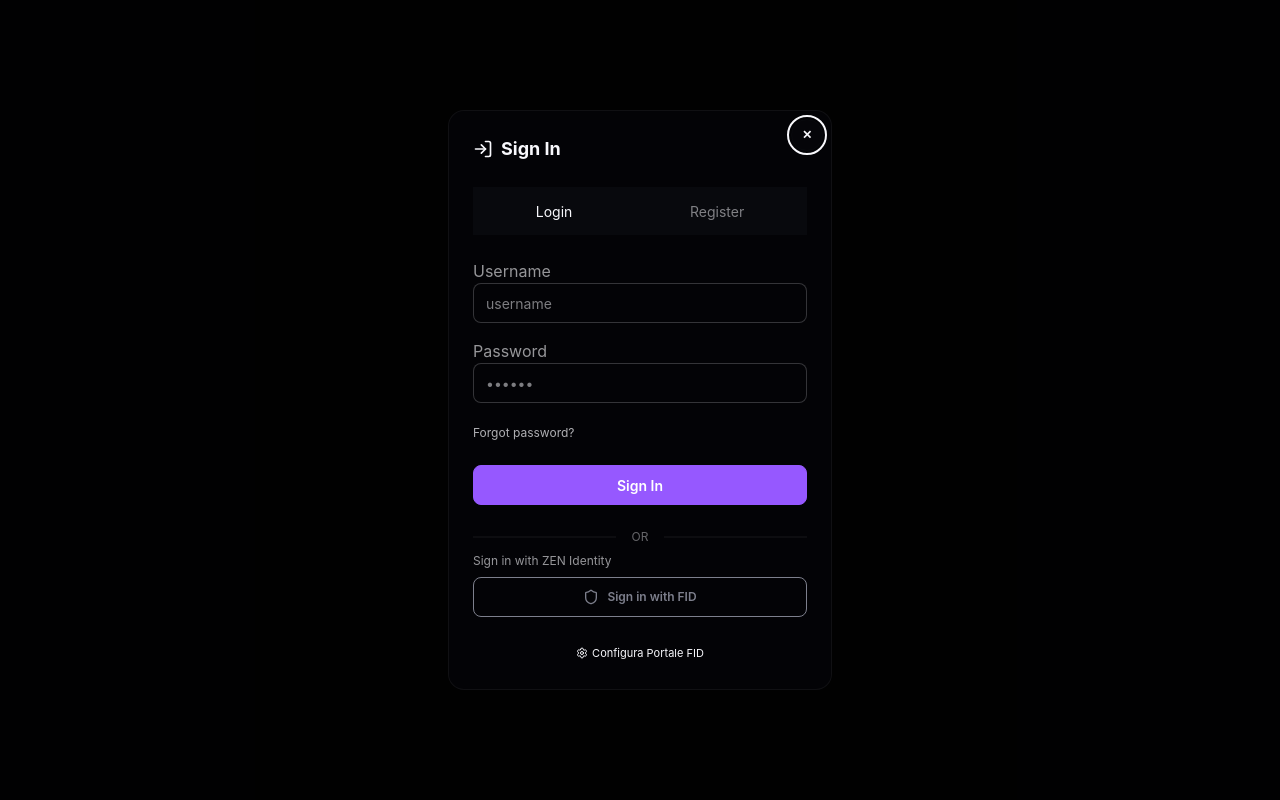
AuthModal › submits forgot password form
The image size is (1280, 800).
Expected: the field labelled "Username" is shown, [473, 283, 807, 323]
Click the button "Forgot password?": (524, 433) [473, 425, 574, 441]
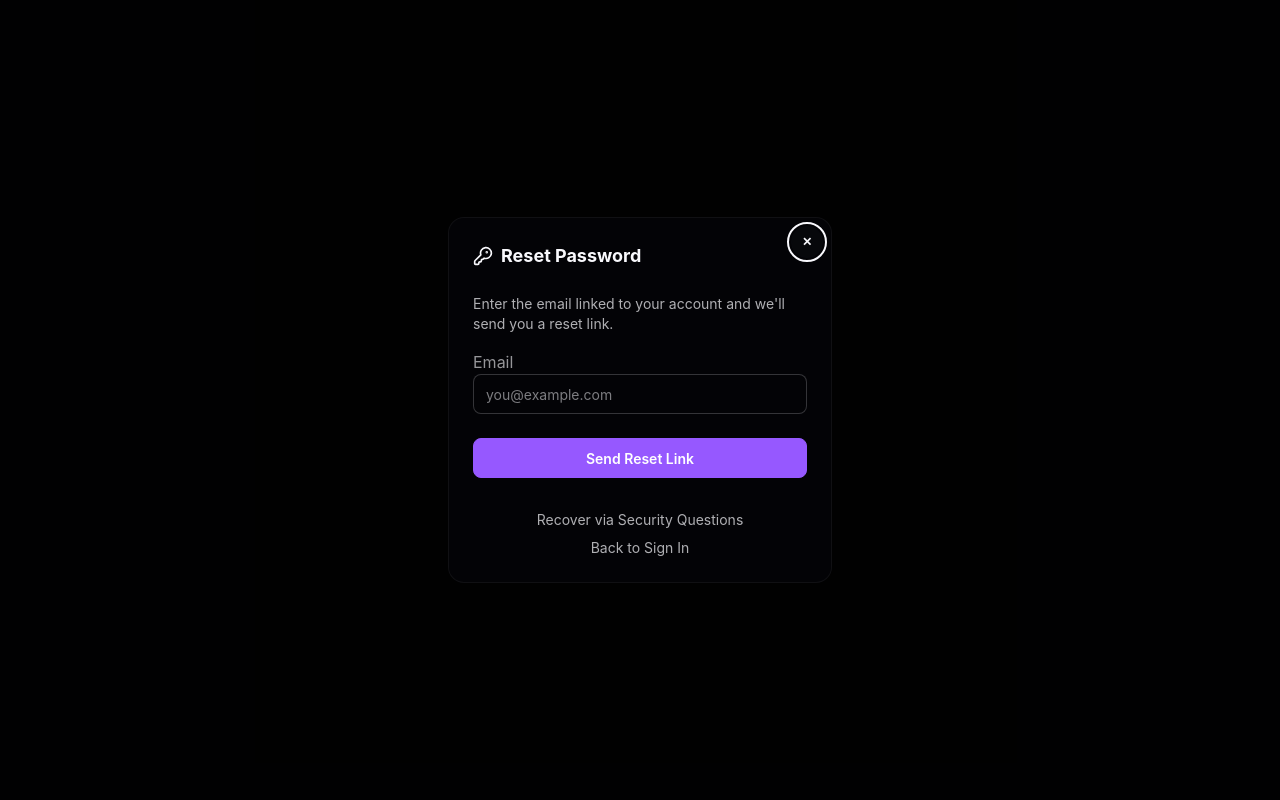
Result: the heading "Reset Password" is shown at [473, 245, 641, 266]
In the field labelled "Email": (640, 394) [473, 374, 807, 414], type "user@example.com"
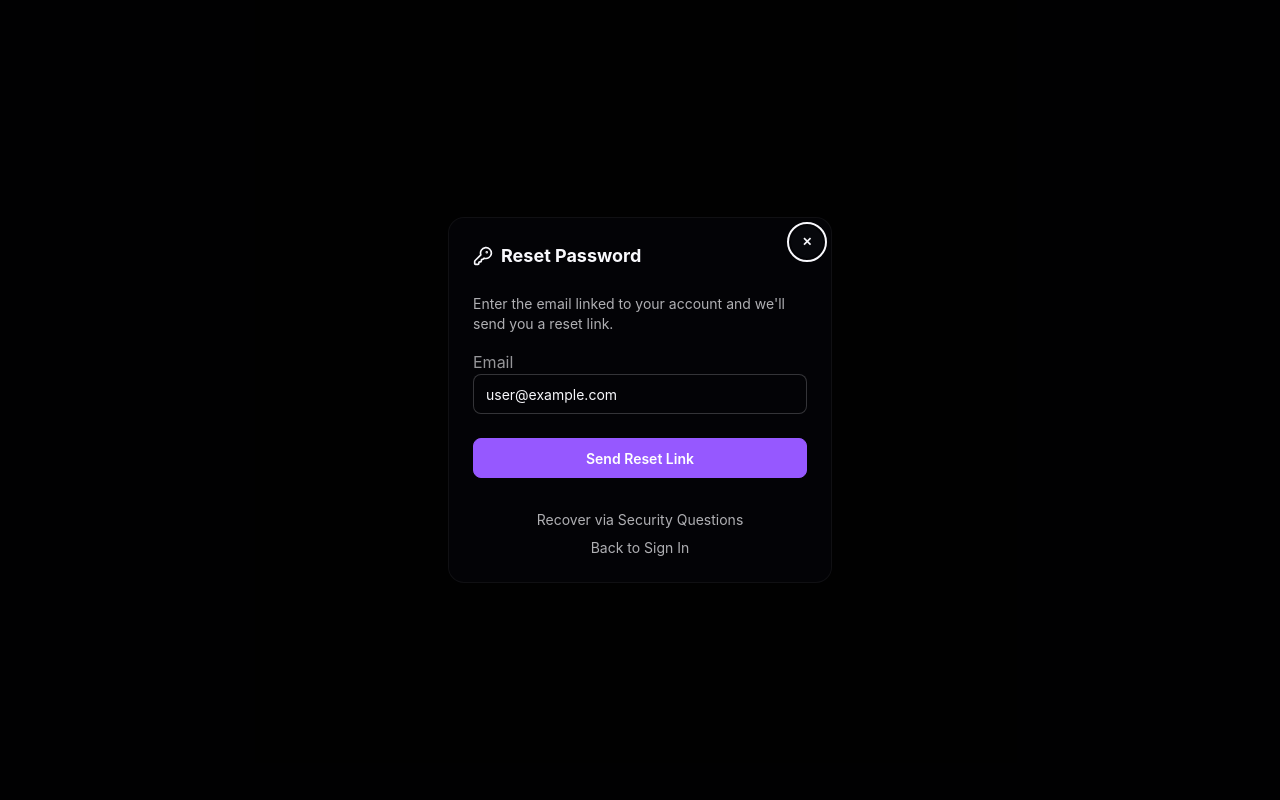
Click the button "Send Reset Link": (640, 458) [473, 438, 807, 478]
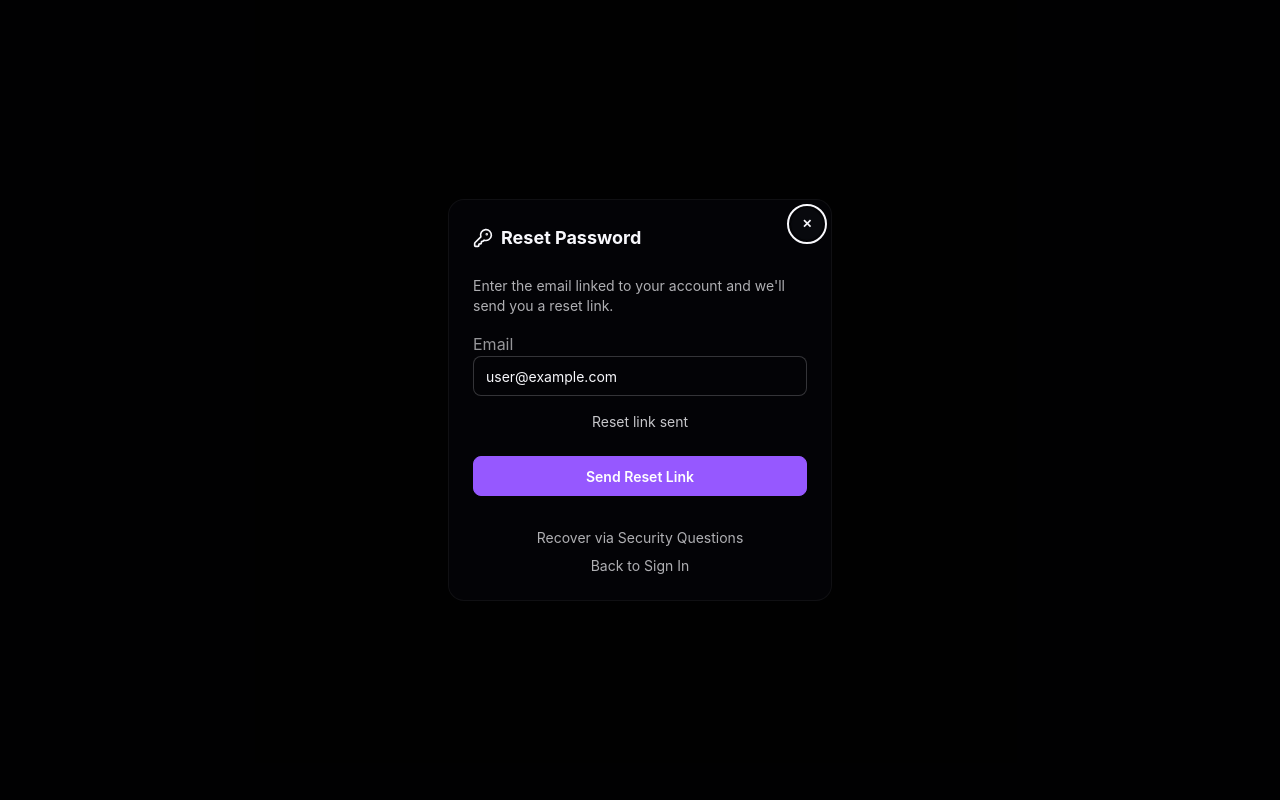
Result: the text "Reset link sent" is shown at [592, 413, 688, 430]
